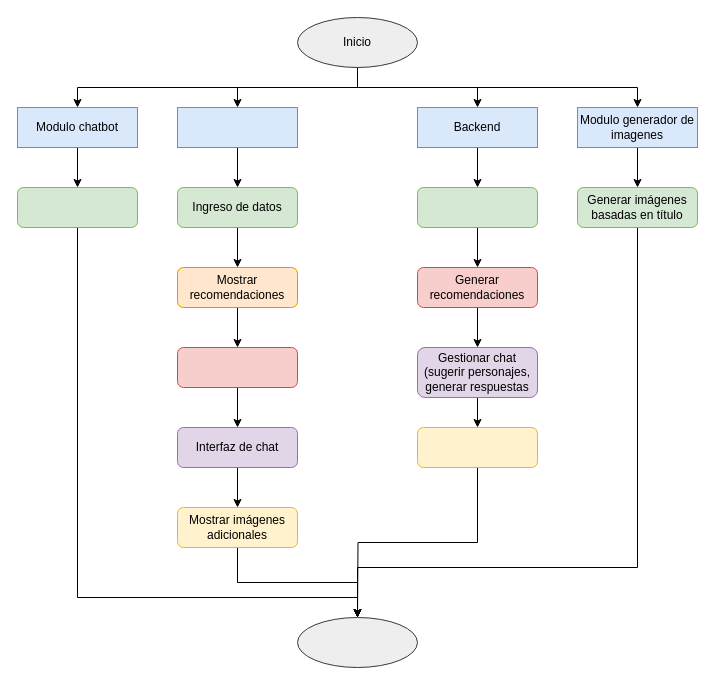
This 715x685 diagram has some shape labels left out. Each missing label, with the centre of its shape:
Generar imágenes adicionales: (x=477, y=447)
Generar respuestas basadas en contexto: (x=77, y=207)
Interfaz: (x=237, y=127)
Mostrar detalles del libro: (x=237, y=367)
Procesar descripción/título: (x=477, y=207)
Salida: (x=357, y=642)
